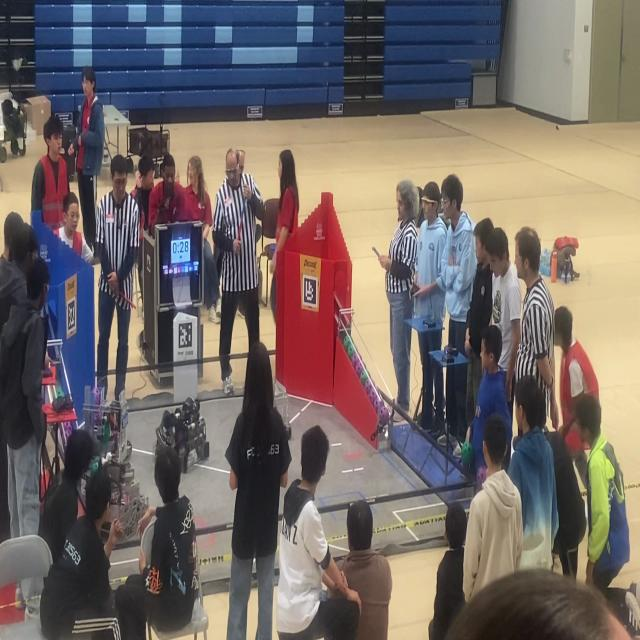artifact_green: (343, 334, 351, 349), (360, 371, 368, 385)
artifact_purple: (461, 441, 473, 466), (379, 404, 389, 424), (363, 378, 374, 396), (477, 466, 486, 487), (360, 370, 369, 388), (63, 422, 72, 440), (355, 356, 363, 376), (368, 390, 376, 408), (347, 342, 356, 358), (371, 393, 379, 411), (343, 334, 350, 349), (351, 353, 358, 368)
